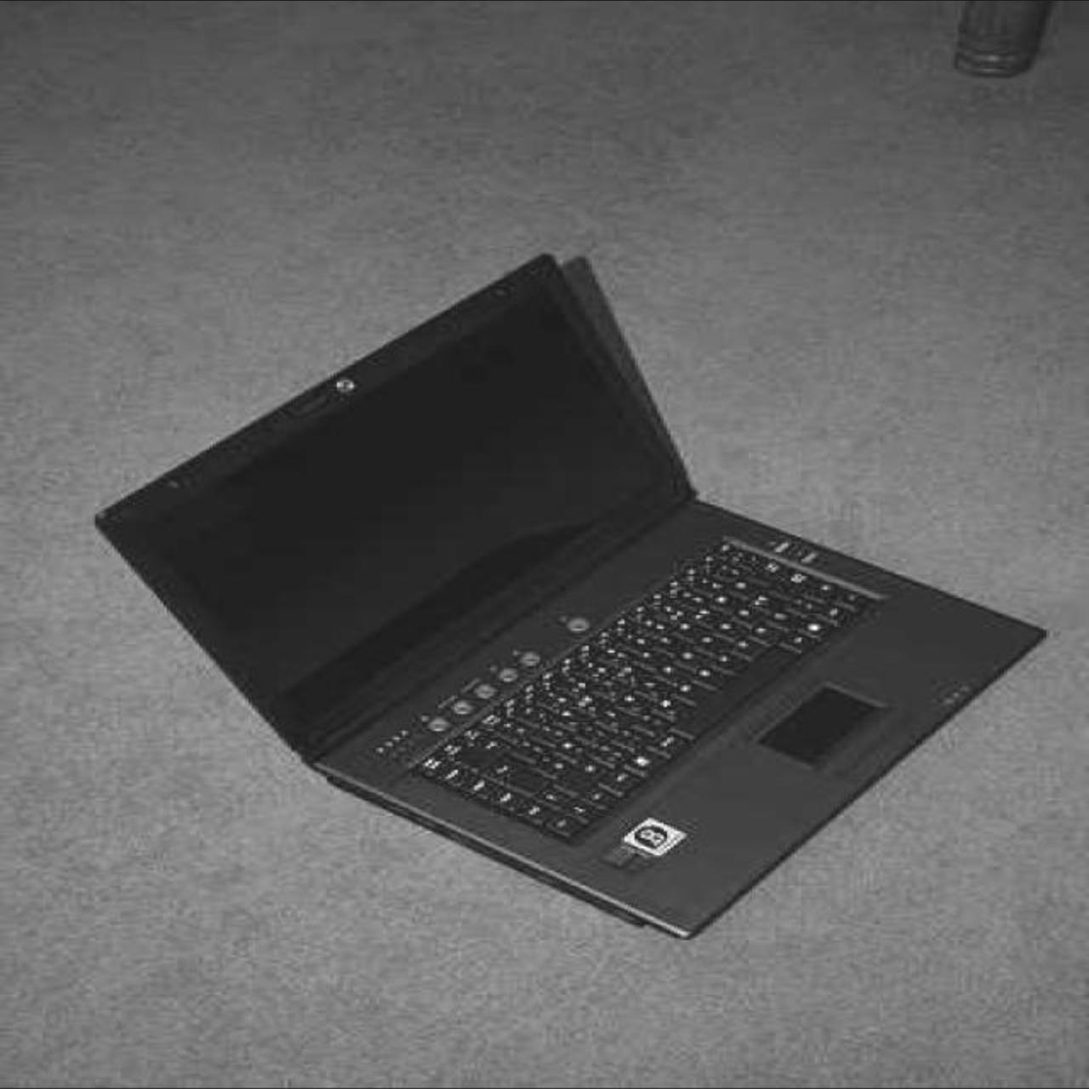laptop: (78, 223, 1048, 958)
